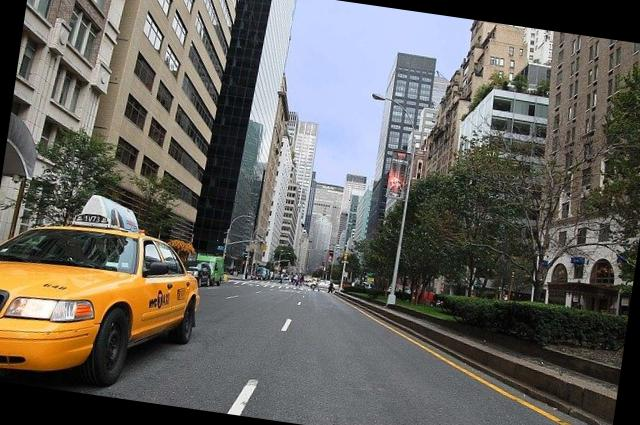taxi: (1, 222, 198, 385)
